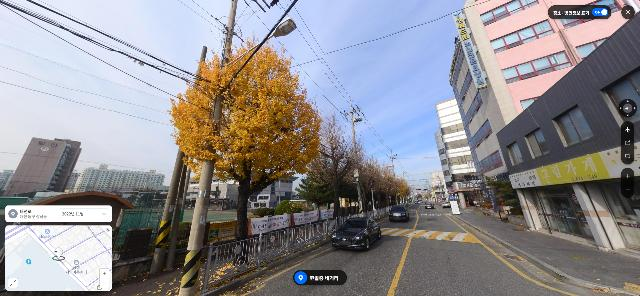ginkgo: (167, 33, 324, 263)
other: (307, 109, 369, 220), (296, 162, 356, 219), (358, 154, 395, 215)
